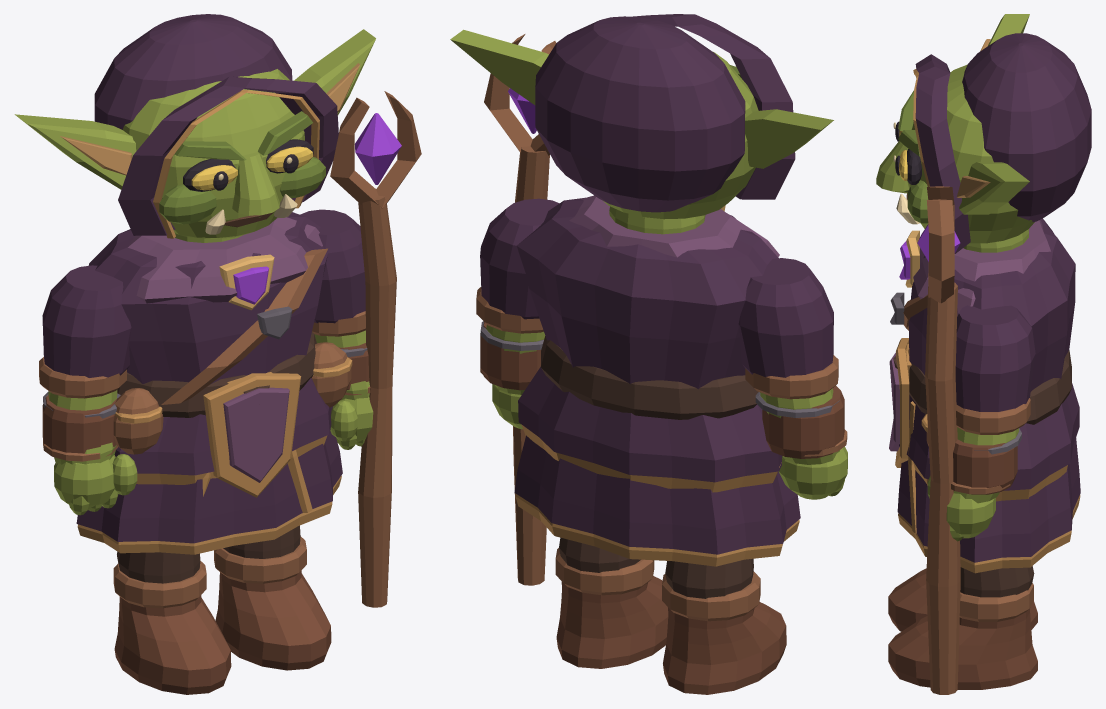
File: CinderShaman.obj
The picture shows the model from 3 angles, left to right: view 1: azimuth 30°, elevation 25°; view 2: azimuth 150°, elevation 25°; view 3: azimuth 270°, elevation 25°; orthographic projection. The views are drawn at different scales.
Parts seen in each view (by area): view 1: Body, ArmR, ArmL, LegL, LegR; view 2: Body, ArmL, ArmR, LegL, LegR; view 3: Body, ArmR, LegR, LegL.
Boxes of the visible parts, x1,y1,x2,y2 form: Body: [14, 14, 375, 554]; ArmR: [300, 91, 421, 607]; ArmL: [39, 265, 137, 515]; LegL: [113, 551, 231, 694]; LegR: [214, 525, 331, 670]; Body: [450, 14, 833, 566]; ArmL: [738, 258, 847, 499]; ArmR: [476, 34, 559, 585]; LegL: [662, 558, 786, 694]; LegR: [555, 537, 668, 668]; Body: [876, 14, 1091, 573]; ArmR: [917, 186, 1035, 694]; LegR: [888, 566, 1037, 689]; LegL: [888, 568, 1037, 631].
Size of the model in its own units: 1.19 by 1.92 by 0.6215.
Materials: 1 (1 with a texture image).
